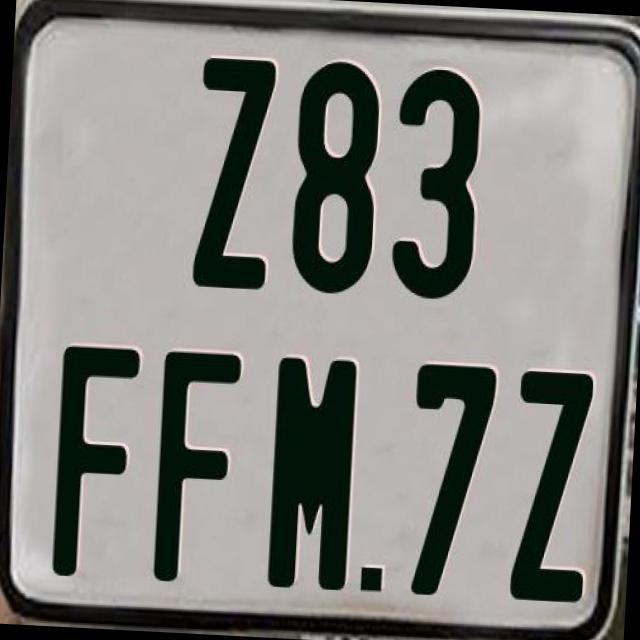3: (388, 63, 484, 304)
7: (406, 358, 501, 600)
8: (286, 56, 380, 294)
F: (48, 345, 140, 589), (153, 347, 244, 582)
M: (267, 357, 361, 592)
Z: (510, 366, 600, 606), (188, 57, 278, 293)
